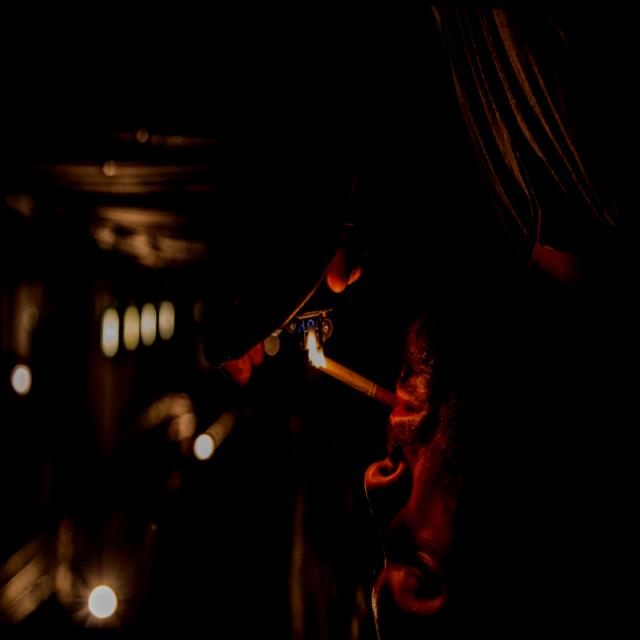smoke: (302, 348, 411, 423)
